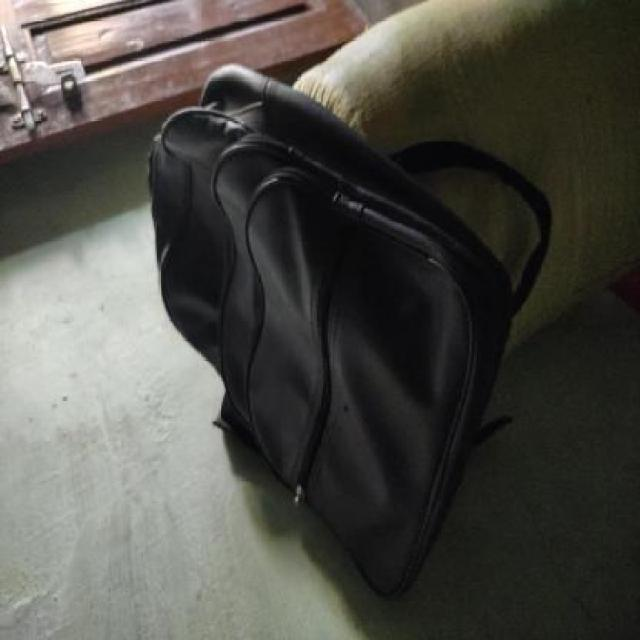backpack: (142, 59, 558, 606)
